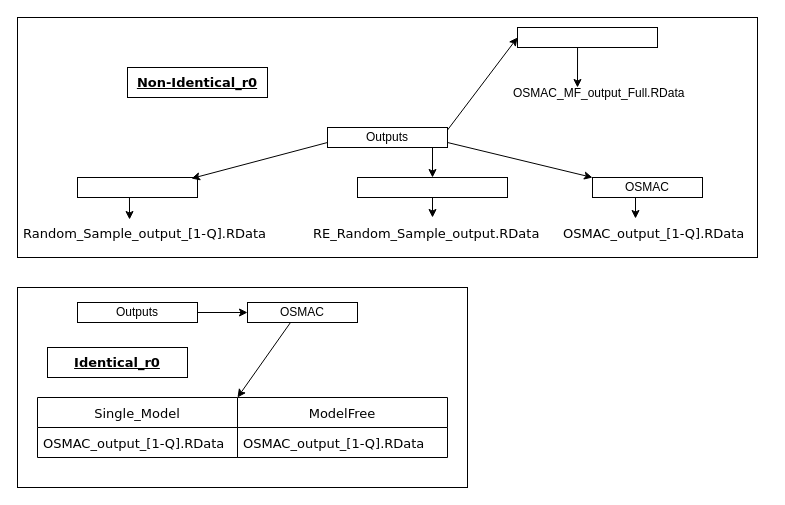
Some shapes in this 785 by 505 pixel diagram are drawn without their labels. The centre of each missing label's shape, as x and y in pixels:
OSMAC_Model_Free: the point at 587,37
Random_Sampling: the point at 137,187
RE_Random_Sampling: the point at 432,187
